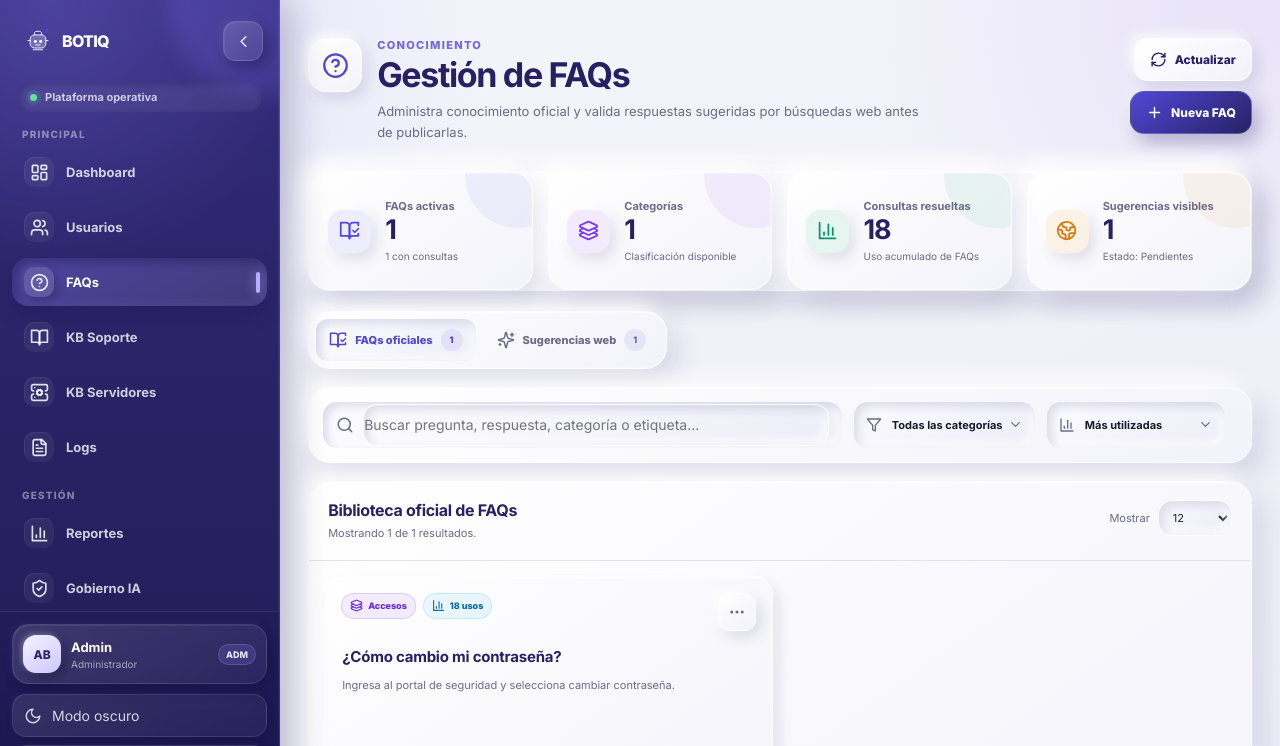
Scenario: FaqsPage profesional › filtra las FAQs por texto
Expected: the heading "¿Cómo cambio mi contraseña?" is shown, [342,647,562,666]
In the field with placeholder "Buscar pregunta, respuesta, categoría o etiqueta...": coordinates (596, 425) [363,404,829,446], type "sin coincidencia"
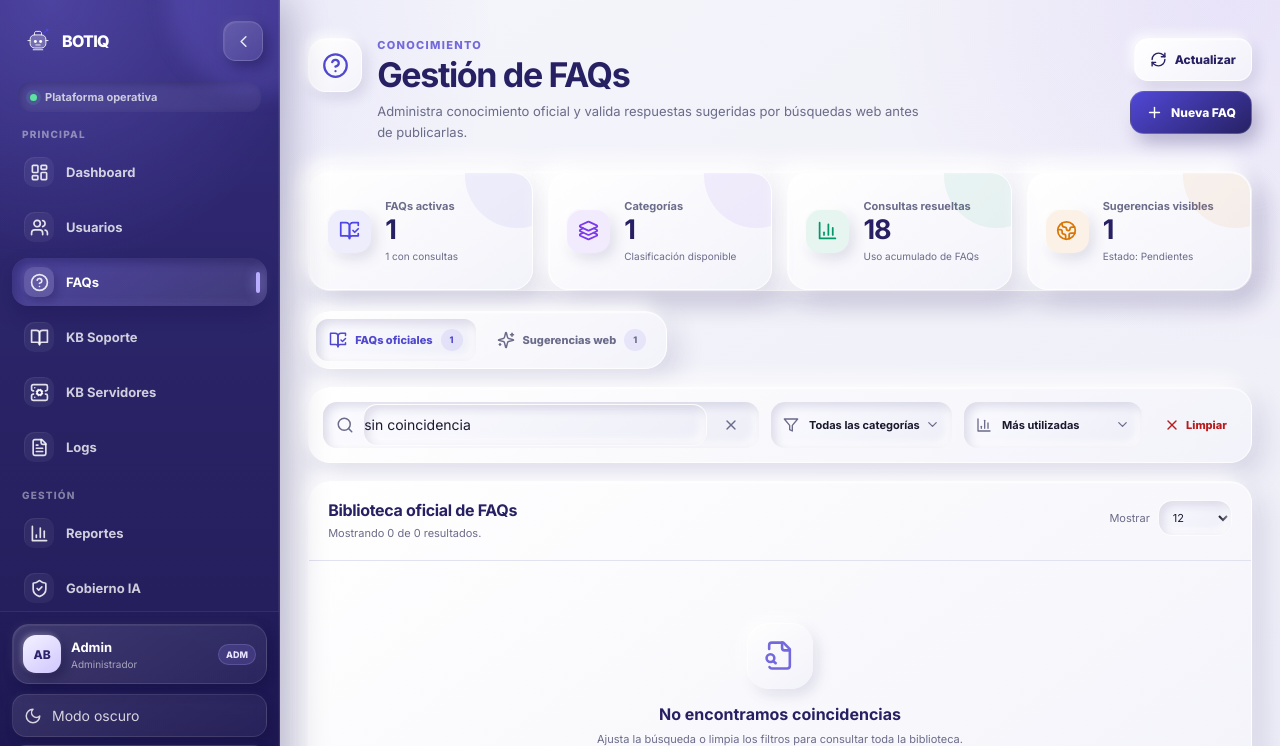
Expected: the heading "No encontramos coincidencias" is shown, [659,704,901,724]
